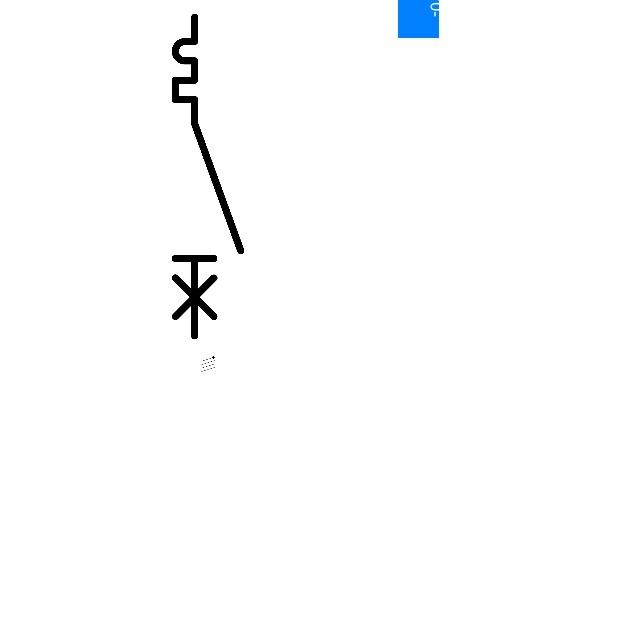interruptor_termomagnetico: (167, 9, 249, 344)
